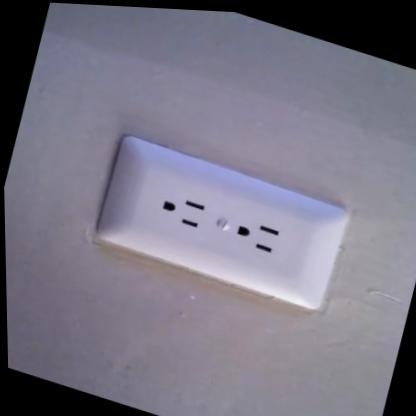OUTLET: (91, 133, 347, 312)
